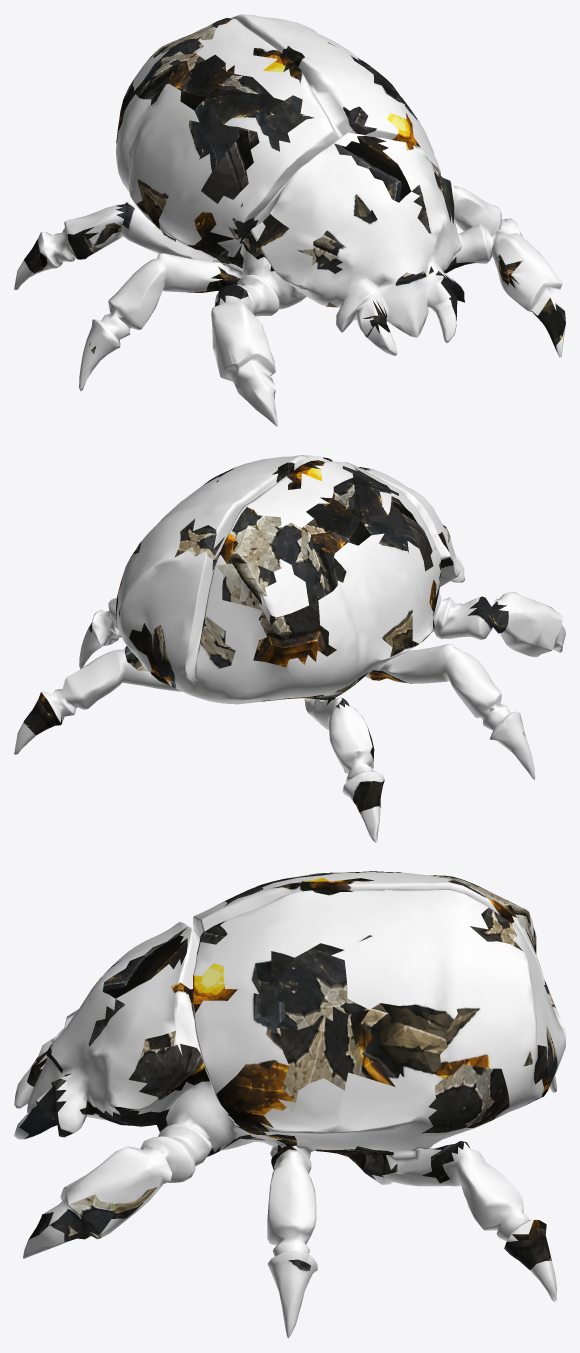
The model's file is carrion_scarab_gold_10k.fbx.
The picture shows the model from 3 angles, top to bottom: view 1: azimuth 30°, elevation 25°; view 2: azimuth 150°, elevation 25°; view 3: azimuth 270°, elevation 25°; orthographic projection. The views are drawn at different scales.
Visible parts, largest first — view 1: carrion_scarab_gold_decimated; view 2: carrion_scarab_gold_decimated; view 3: carrion_scarab_gold_decimated.
Part boxes in pixels (left/top/right/bottom): carrion_scarab_gold_decimated: left=14, top=14, right=565, bottom=426; carrion_scarab_gold_decimated: left=14, top=455, right=565, bottom=842; carrion_scarab_gold_decimated: left=14, top=871, right=565, bottom=1338.
Bounding box in the file's own units: 1.91 × 1.08 × 1.68.
